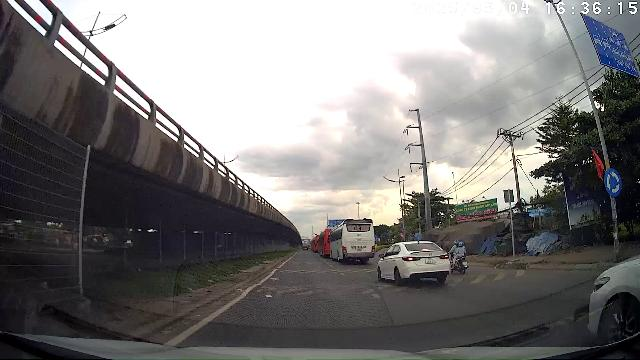303-noi-giao-nhau-chay-theo-vong-xuyen: (604, 168, 622, 197)
